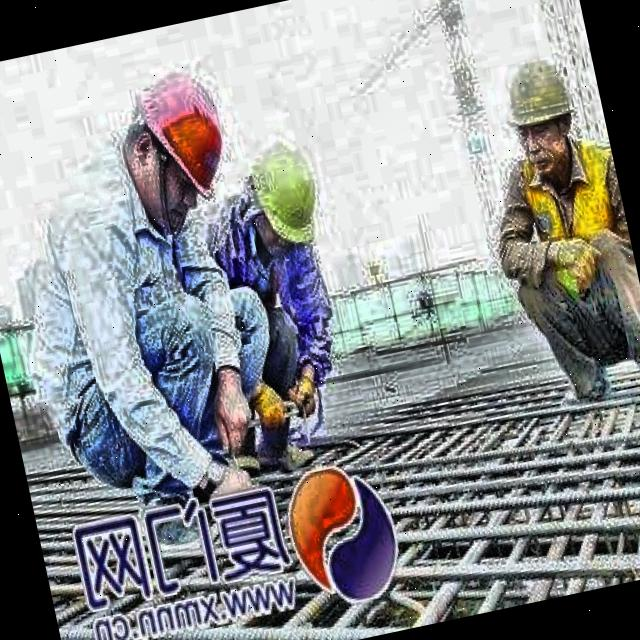helmet: (98, 43, 254, 248), (486, 36, 596, 191), (235, 120, 332, 260)
